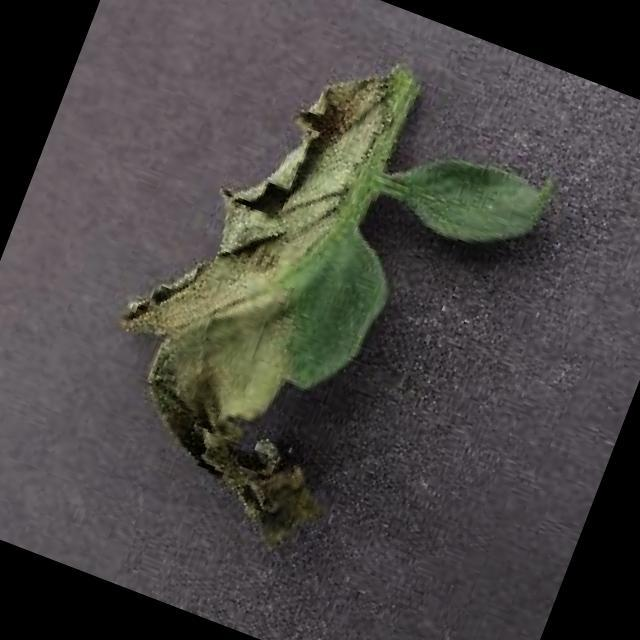Tomato healthy leaf: (380, 123, 561, 271)
Tomato late blight leaf: (61, 11, 469, 558)
